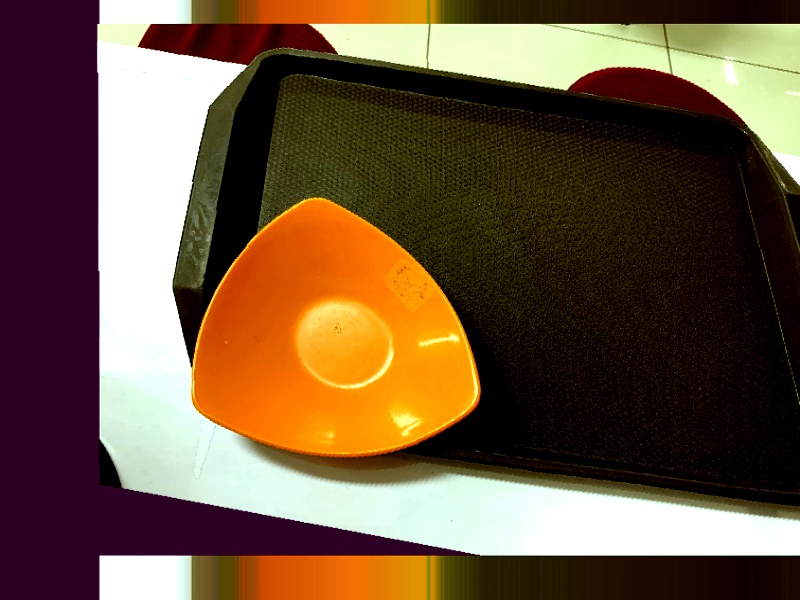dish11: (186, 170, 488, 497)
